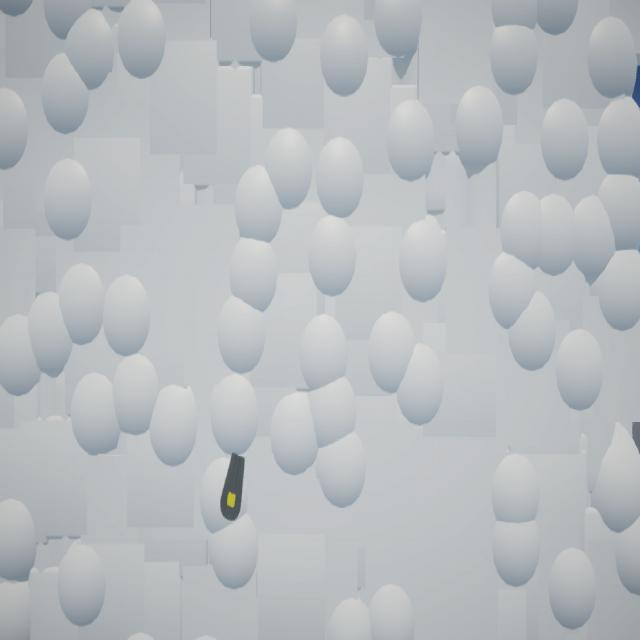handle_folk: (221, 452, 246, 522)
